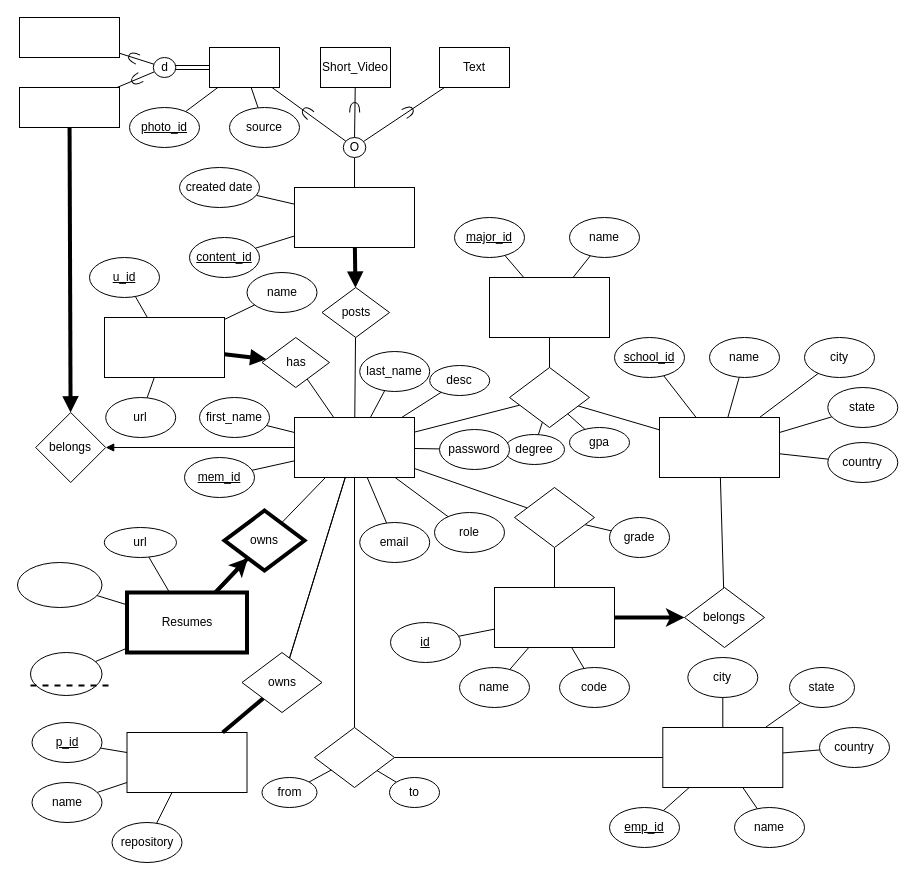
Some shapes in this 916 by 880 pixel diagram are drawn without their labels. Each missing label, with the centre of its shape:
Account_Photo: point 69,107
Content: point 354,217
Course: point 554,617
date_created: point 59,585
Employer: point 722,757
file_name: point 66,674
graduates: point 549,397
major: point 549,307
Member: point 354,447
Personal_URL: point 164,347
Photo: point 244,67
Project: point 186,762
Regular_Photo: point 69,37
School: point 719,447
takes: point 554,517
works: point 354,757
